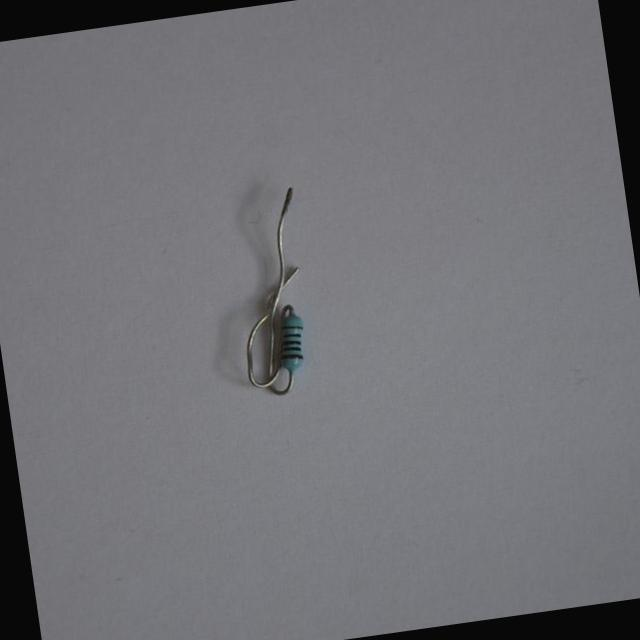Resistor: (279, 314, 310, 367)
black: (281, 347, 303, 352), (280, 342, 300, 346), (280, 335, 300, 339)
brown: (278, 325, 304, 331), (278, 355, 303, 361)
